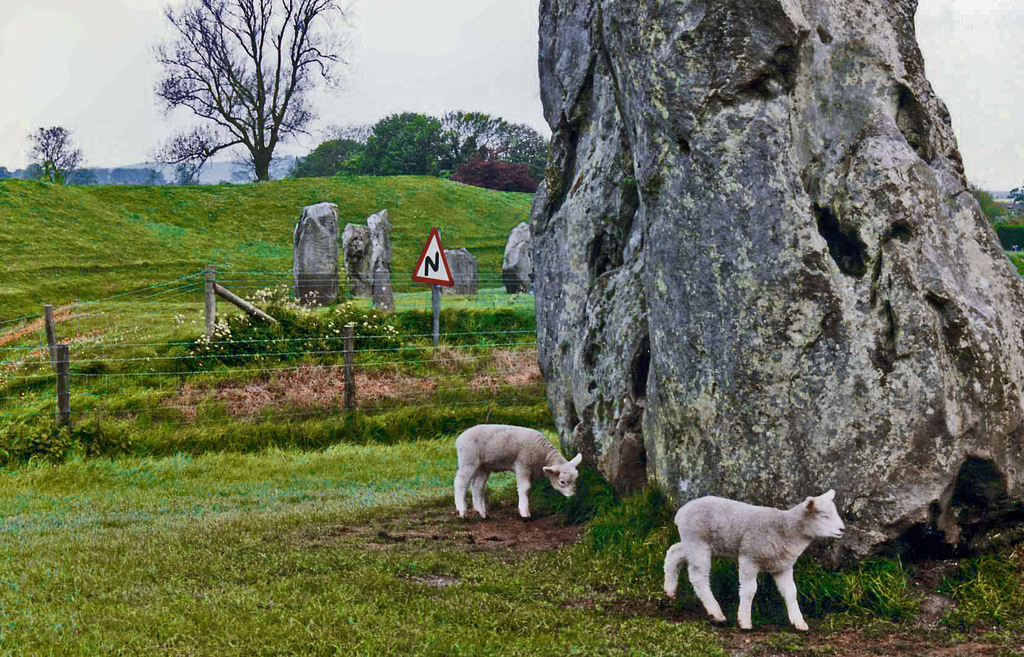sheep: (661, 487, 843, 632), (452, 425, 579, 516)
